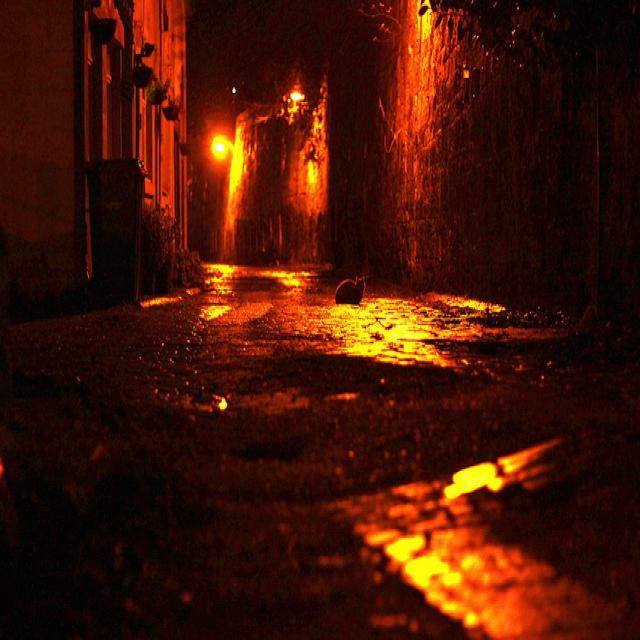Cat: (319, 263, 369, 311)
